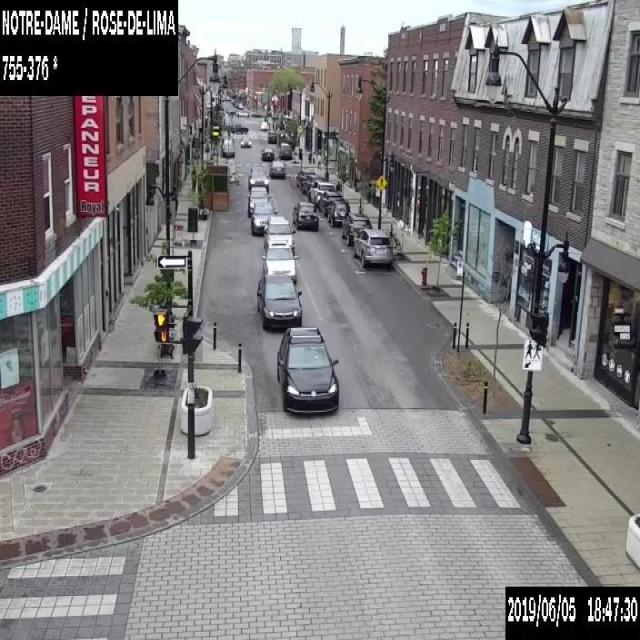pedestrian: (190, 164, 196, 192), (317, 151, 321, 169), (335, 179, 339, 190)
vehicle: (276, 326, 338, 414), (256, 274, 301, 329), (260, 239, 297, 284), (352, 228, 392, 266), (263, 214, 294, 256), (341, 210, 372, 244), (250, 201, 276, 234), (292, 201, 318, 230), (247, 186, 270, 216), (318, 190, 344, 214), (327, 200, 350, 227), (308, 180, 334, 202), (247, 170, 268, 192), (301, 173, 324, 193), (296, 168, 314, 188), (268, 160, 285, 177), (278, 141, 290, 158), (260, 146, 274, 160), (232, 123, 248, 133), (240, 134, 251, 147), (222, 145, 234, 156), (267, 131, 276, 142), (222, 138, 233, 147), (235, 110, 248, 116), (250, 112, 264, 117), (260, 120, 267, 128), (237, 103, 243, 108)
